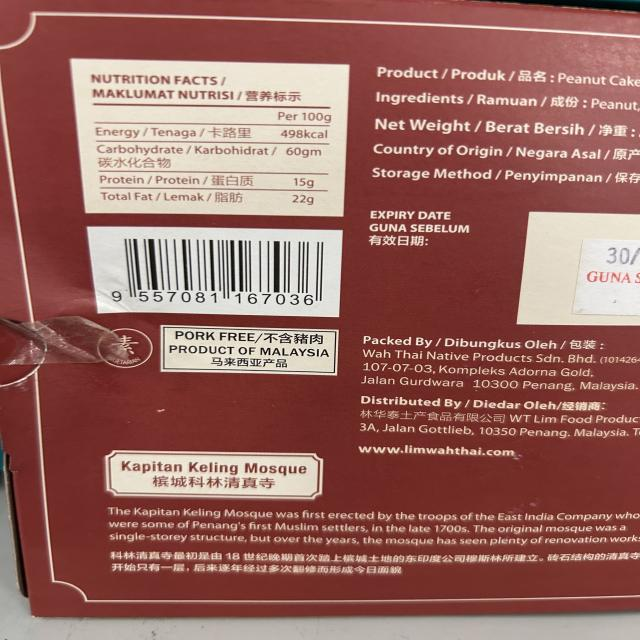object_name: (0, 8, 640, 602)
